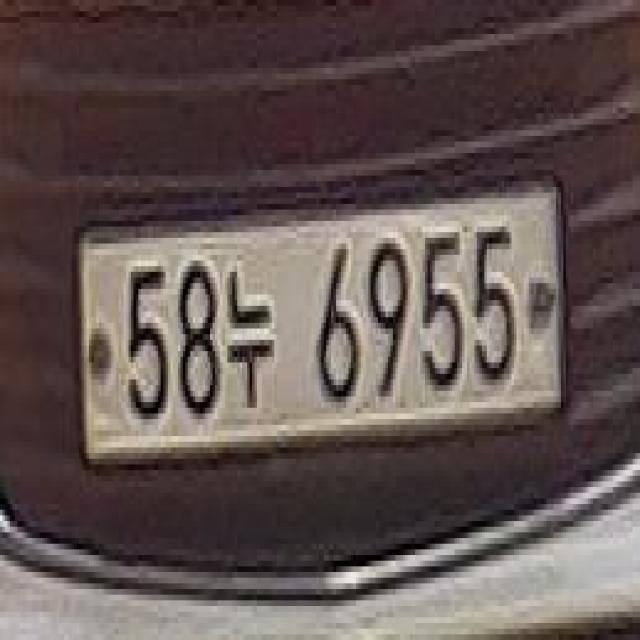5: (419, 218, 466, 400), (471, 212, 518, 394), (122, 250, 170, 426)
6: (312, 237, 359, 407)
8: (176, 249, 222, 421)
9: (366, 232, 413, 402)
license_plate: (75, 161, 574, 492)
nu: (226, 249, 275, 417)
